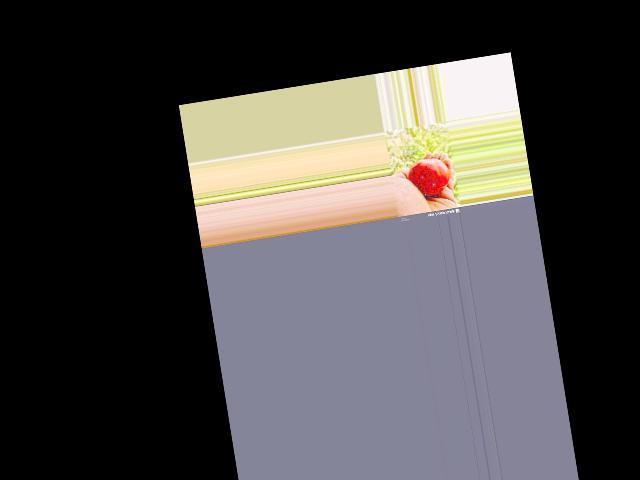tomato: (405, 156, 451, 198)
